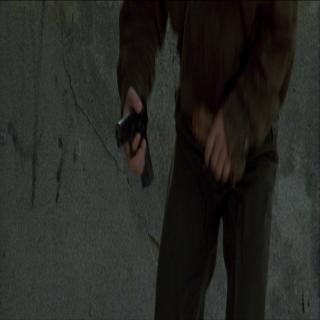gun: (112, 87, 159, 193)
